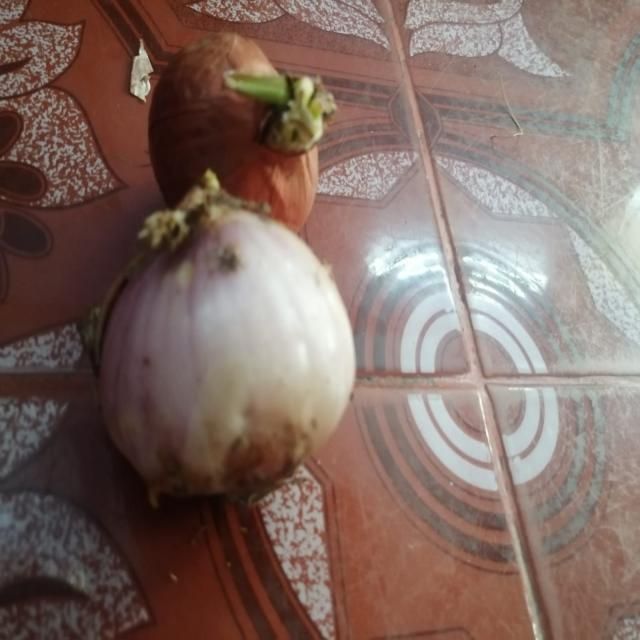rotten: (129, 422, 292, 502)
sprouting: (238, 83, 324, 142)
